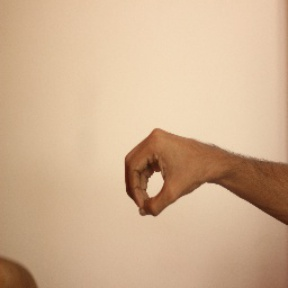O: (119, 113, 212, 219)
